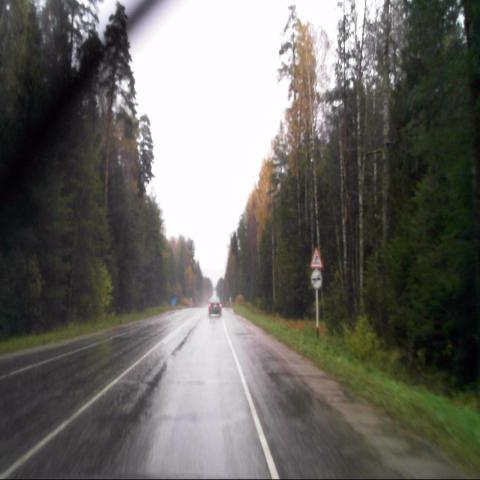1_22: (310, 248, 323, 270)
3_21: (310, 269, 323, 290)
